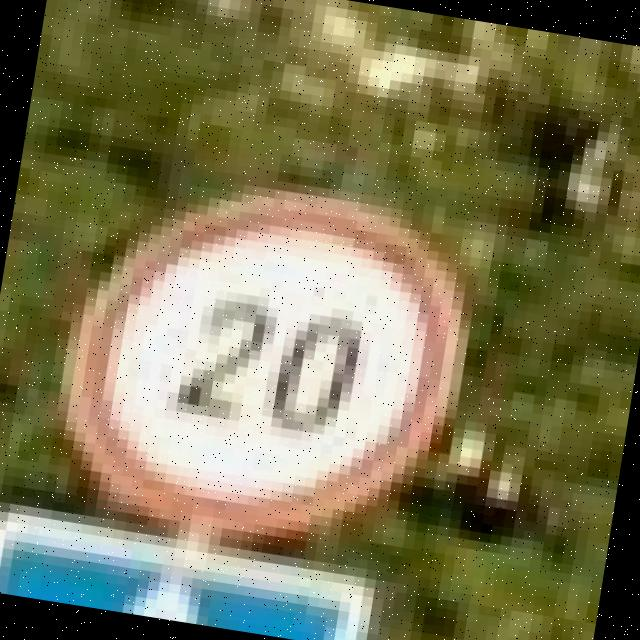Ograniczenie predkosci do 20: (41, 162, 486, 570)
